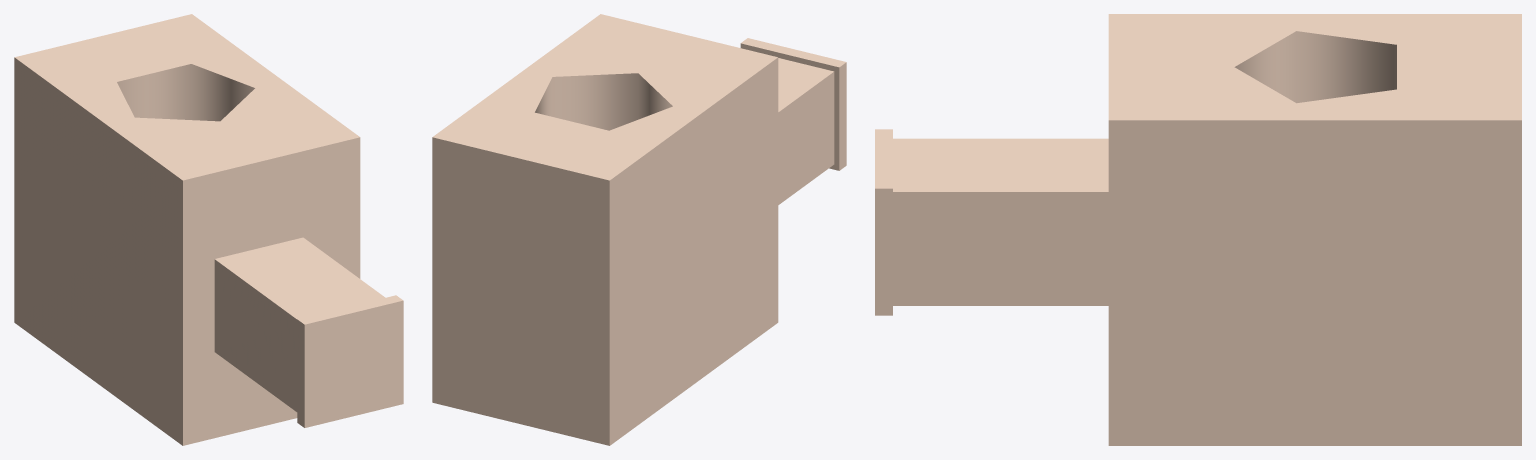
Rendered from Pied marteau Quarts rivete.obj.
3 views of the same model, side by side, from view 1: azimuth 30°, elevation 25°; view 2: azimuth 150°, elevation 25°; view 3: azimuth 270°, elevation 25° (orthographic). The views are drawn at different scales.
Visible parts, largest first — view 1: Face_4, Face_1, Face_3, Face_18, Face_9, Face_10, Face_7, Face_15, Face_14; view 2: Face_6, Face_4, Face_3, Face_7, Face_9, Face_10, Face_13, Face_15, Face_14; view 3: Face_2, Face_3, Face_11, Face_10, Face_7, Face_17, Face_14.
Part boxes in pixels (box(x1,y1,x2,y2)): Face_4: box(14, 57, 182, 445); Face_1: box(183, 137, 360, 445); Face_3: box(15, 14, 359, 180); Face_18: box(304, 300, 403, 427); Face_9: box(214, 259, 297, 411); Face_10: box(215, 237, 385, 319); Face_7: box(117, 64, 254, 121); Face_15: box(297, 319, 304, 427); Face_14: box(298, 295, 402, 324); Face_6: box(432, 137, 609, 445); Face_4: box(609, 57, 778, 445); Face_3: box(432, 14, 777, 180); Face_7: box(535, 73, 672, 130); Face_9: box(778, 72, 834, 204); Face_10: box(778, 58, 833, 111); Face_13: box(740, 43, 839, 170); Face_15: box(839, 62, 846, 170); Face_14: box(741, 38, 846, 67); Face_2: box(1108, 120, 1521, 445); Face_3: box(1108, 14, 1521, 120); Face_11: box(893, 192, 1108, 305); Face_10: box(893, 138, 1108, 191); Face_7: box(1234, 31, 1396, 103); Face_17: box(875, 188, 892, 315); Face_14: box(875, 129, 892, 188).
Size of the model in its own units: 0.007 by 0.01 by 0.018.
